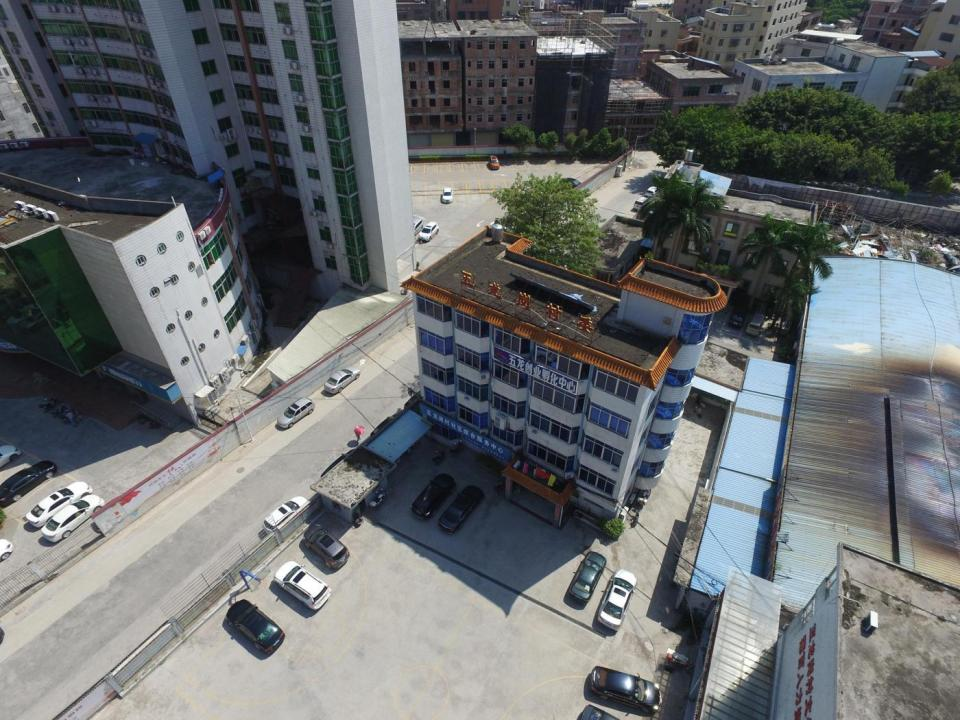car: (590, 665, 662, 711), (226, 598, 284, 654), (26, 480, 92, 526), (41, 494, 104, 542), (273, 559, 332, 609), (1, 460, 57, 508), (597, 570, 637, 630), (302, 523, 350, 569), (408, 473, 454, 521), (439, 485, 485, 533), (567, 551, 606, 604), (264, 495, 308, 535), (325, 366, 360, 394), (419, 222, 438, 241), (729, 307, 744, 329), (559, 177, 583, 189), (488, 156, 501, 170), (442, 188, 453, 204), (645, 186, 658, 197)
van: (276, 396, 315, 430), (746, 313, 764, 338), (409, 219, 423, 236), (634, 197, 646, 209), (836, 20, 854, 27)
